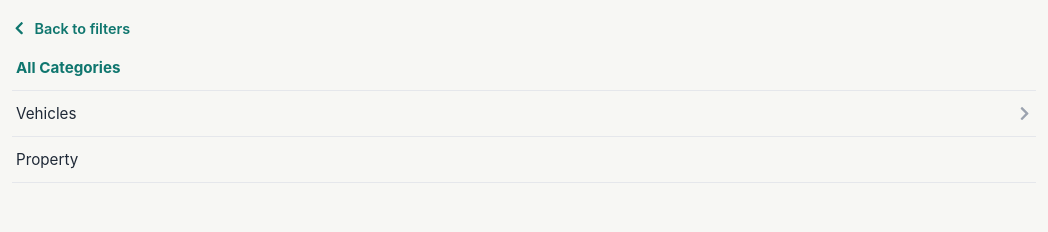
Test: CategorySelector › drills into a parent category with children instead of selecting it
Click the button "Vehicles" at (46, 114), box [12, 91, 1036, 137]
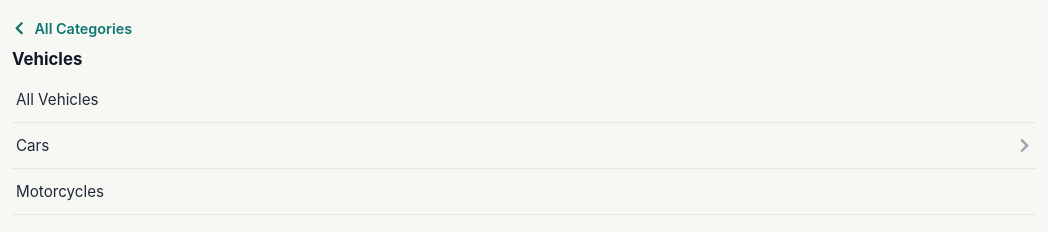
Expected: the button "All Vehicles" is shown, [12, 77, 1036, 123]
Expected: the text "Cars" is shown, [16, 136, 49, 155]
Expected: the text "Motorcycles" is shown, [16, 182, 104, 201]
